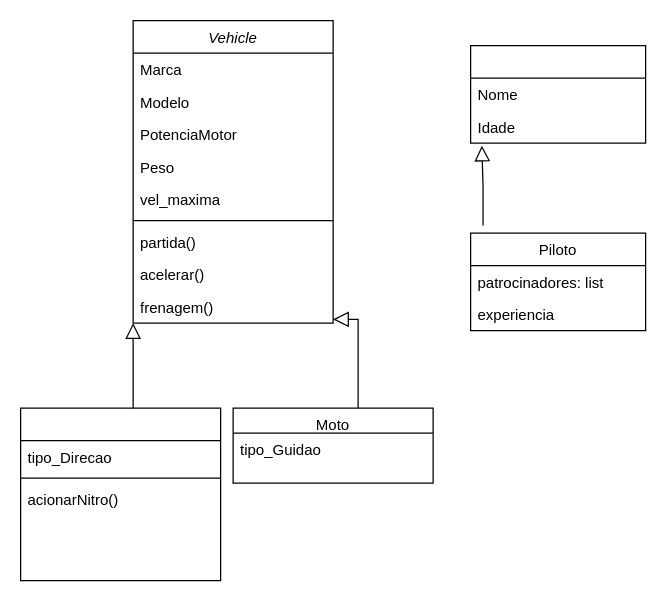
The diagram is 666 pixels wide and 601 high, and some of its shapes have lost their labels. The box of each missing label's shape, as (x1, y1, x2, y2) in pixels:
Carro: (19, 407, 221, 581)
Pessoa: (469, 44, 646, 143)
